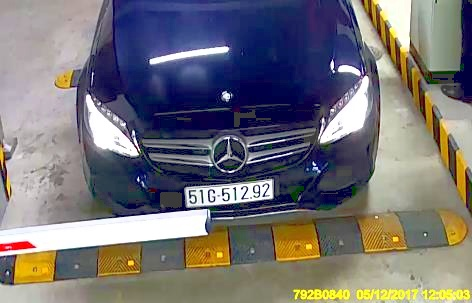plate: (181, 180, 277, 207)
